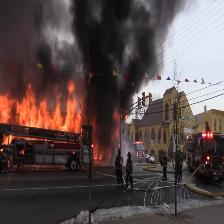fire: (1, 95, 80, 132)
smoke: (4, 1, 137, 97), (92, 102, 117, 140)
